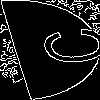C: (24, 25, 100, 69)
